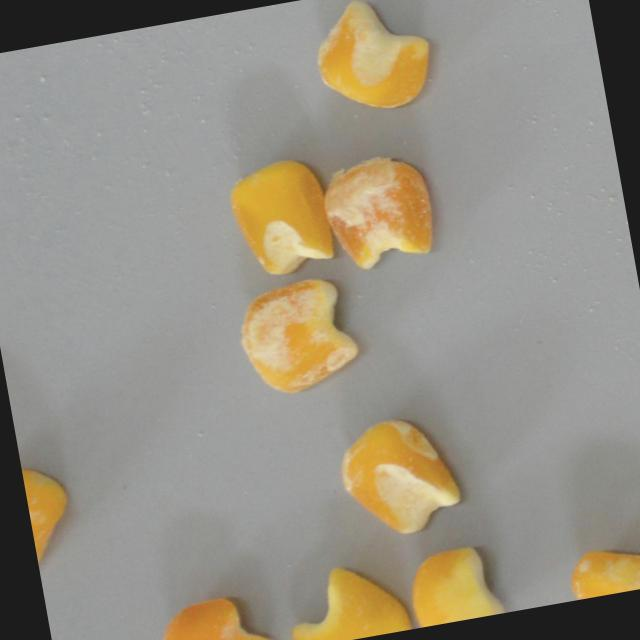dañado: (153, 586, 276, 640)
no_canjicado: (402, 538, 504, 628)
pelicula: (332, 407, 464, 541), (232, 269, 364, 400), (314, 145, 442, 272), (306, 0, 437, 118), (223, 150, 335, 282), (280, 554, 413, 640), (564, 540, 640, 600)
